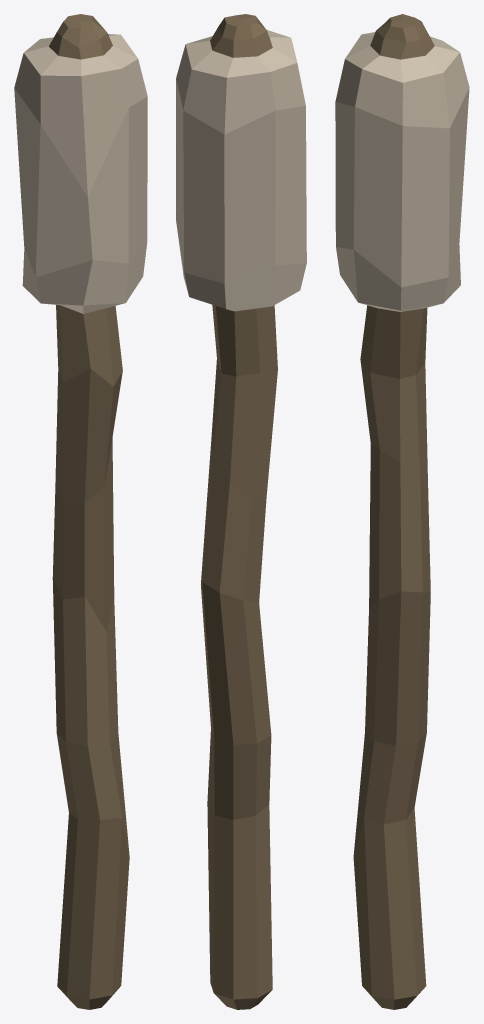
Rendered from Torcia_low.fbx.
The picture shows the model from 3 angles, left to right: view 1: azimuth 90°, elevation 25°; view 2: azimuth 210°, elevation 25°; view 3: azimuth 270°, elevation 25°; orthographic projection.
Parts seen in each view (by area): view 1: Torcia_low; view 2: Torcia_low; view 3: Torcia_low.
Part boxes in pixels (left/top/right/bottom): Torcia_low: left=14, top=14, right=147, bottom=1009; Torcia_low: left=176, top=14, right=306, bottom=1009; Torcia_low: left=335, top=14, right=469, bottom=1009.
Size of the model in its own units: 6.78 by 54.45 by 6.73.
